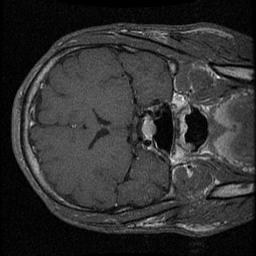pituitary tumour: (140, 113, 156, 140)
